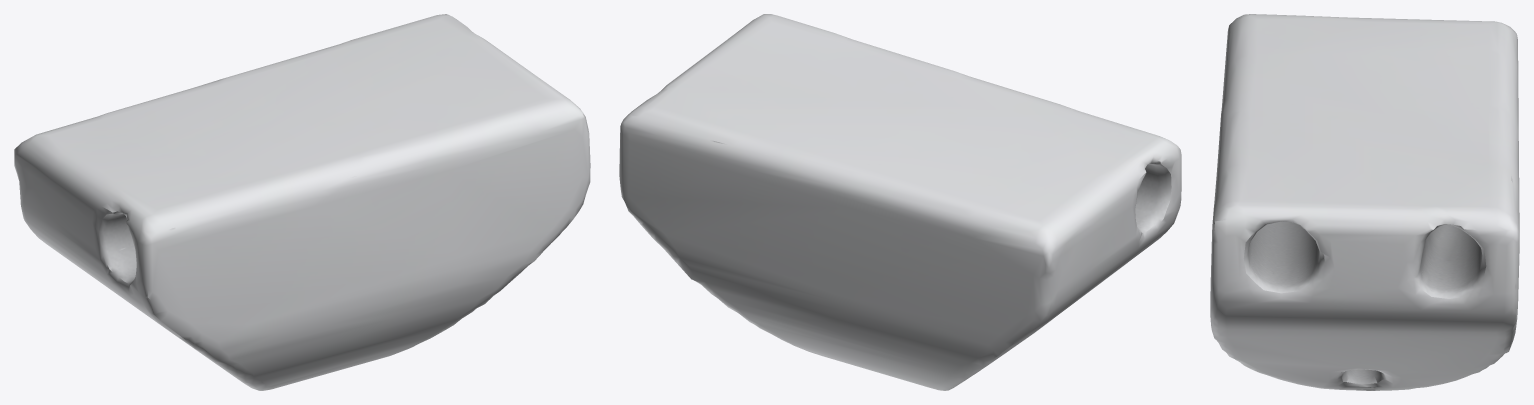
The model's file is left_thomb_midle.glb.
The picture shows the model from 3 angles, left to right: view 1: azimuth 30°, elevation 25°; view 2: azimuth 150°, elevation 25°; view 3: azimuth 270°, elevation 25°; orthographic projection. The views are drawn at different scales.
Visible parts, largest first — view 1: left_thomb_midle; view 2: left_thomb_midle; view 3: left_thomb_midle.
Part boxes in pixels (box(x1,y1,x2,y2)): left_thomb_midle: box(14, 14, 590, 390); left_thomb_midle: box(619, 14, 1181, 390); left_thomb_midle: box(1210, 14, 1519, 390).
Bounding box in the file's own units: 0.0253 × 0.0141 × 0.0143.
1 material, 1 textured.
